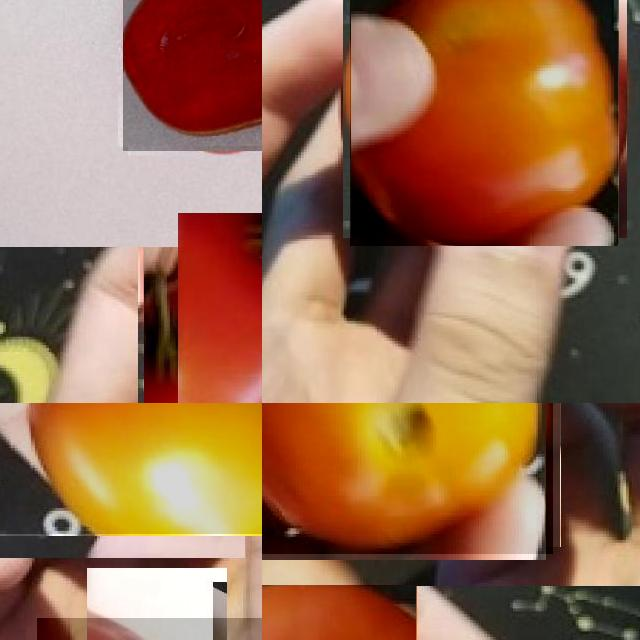0: (160, 230, 262, 403)
1: (123, 0, 262, 151)
Fresh Tomato: (351, 0, 618, 246), (262, 403, 553, 553), (0, 403, 262, 534)
Rotten Tomato: (262, 585, 416, 640)
